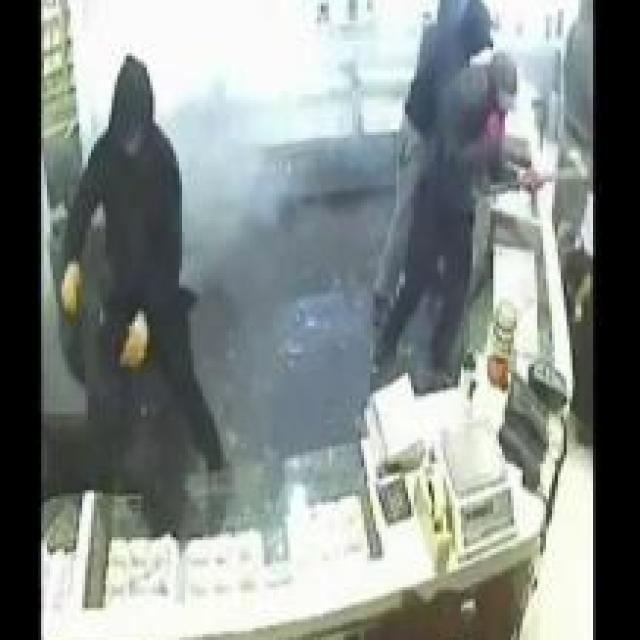fire: (161, 0, 328, 255)
